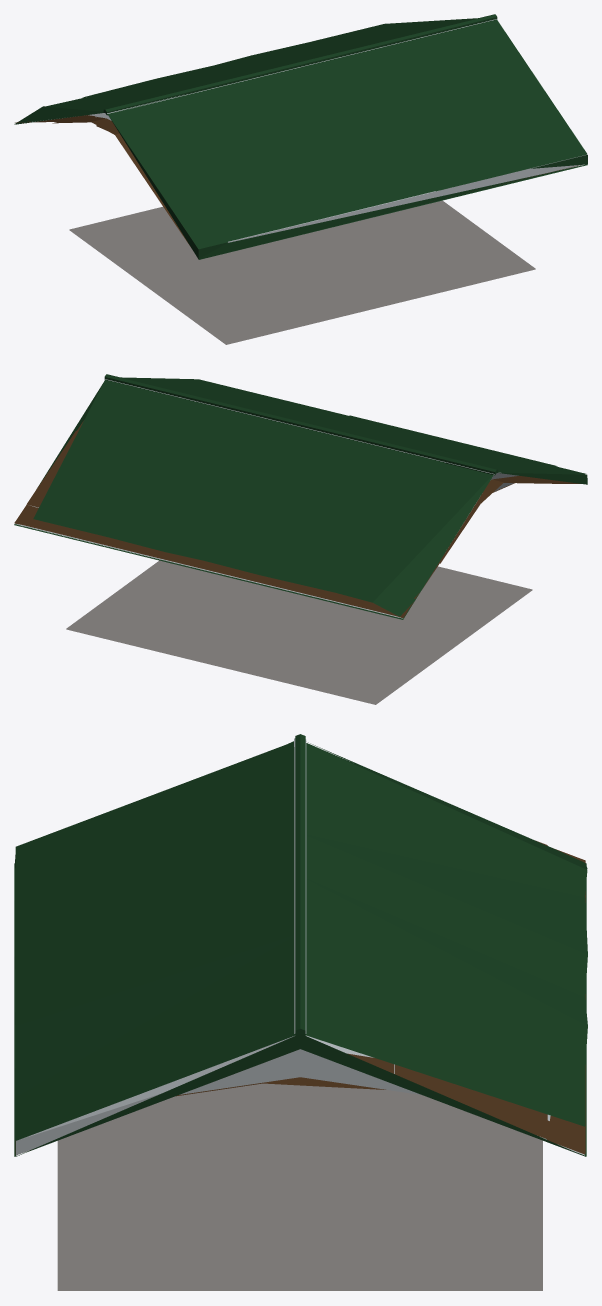
Rendered from rest-shelter.zfix-v9.lod2.glb.
The picture shows the model from 3 angles, top to bottom: view 1: azimuth 30°, elevation 25°; view 2: azimuth 150°, elevation 25°; view 3: azimuth 270°, elevation 25°; orthographic projection. The views are drawn at different scales.
Parts seen in each view (by area): view 1: Material2; view 2: Material2; view 3: Material2.
Part boxes in pixels (x1,y1,x2,y2): Material2: [14, 14, 587, 344]; Material2: [14, 374, 587, 704]; Material2: [14, 734, 587, 1290].
Size of the model in its own units: 10.35 by 4.78 by 8.52.
